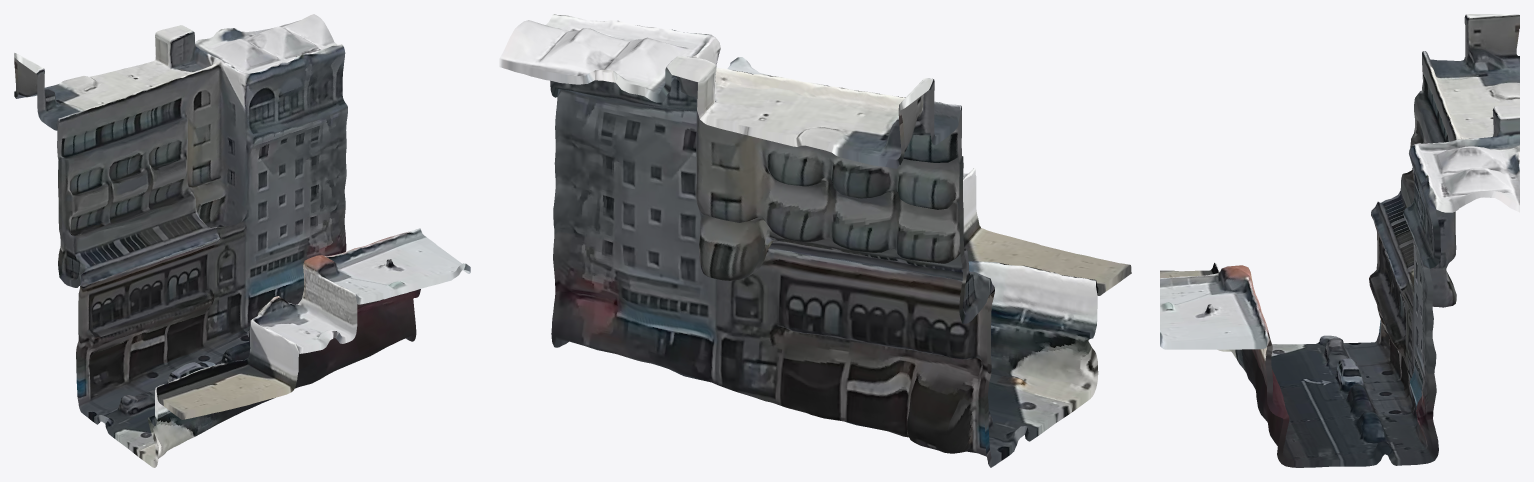
Rendered from z20-167755-405236-h0-yup-uvflip-v3-world.glb.
3 renders of one model, left to right at view 1: azimuth 30°, elevation 25°; view 2: azimuth 150°, elevation 25°; view 3: azimuth 270°, elevation 25°, orthographic. The views are drawn at different scales.
Bounding box in the file's own units: 30.2 × 31.4 × 30.32.
Materials: 1 (1 with a texture image).
